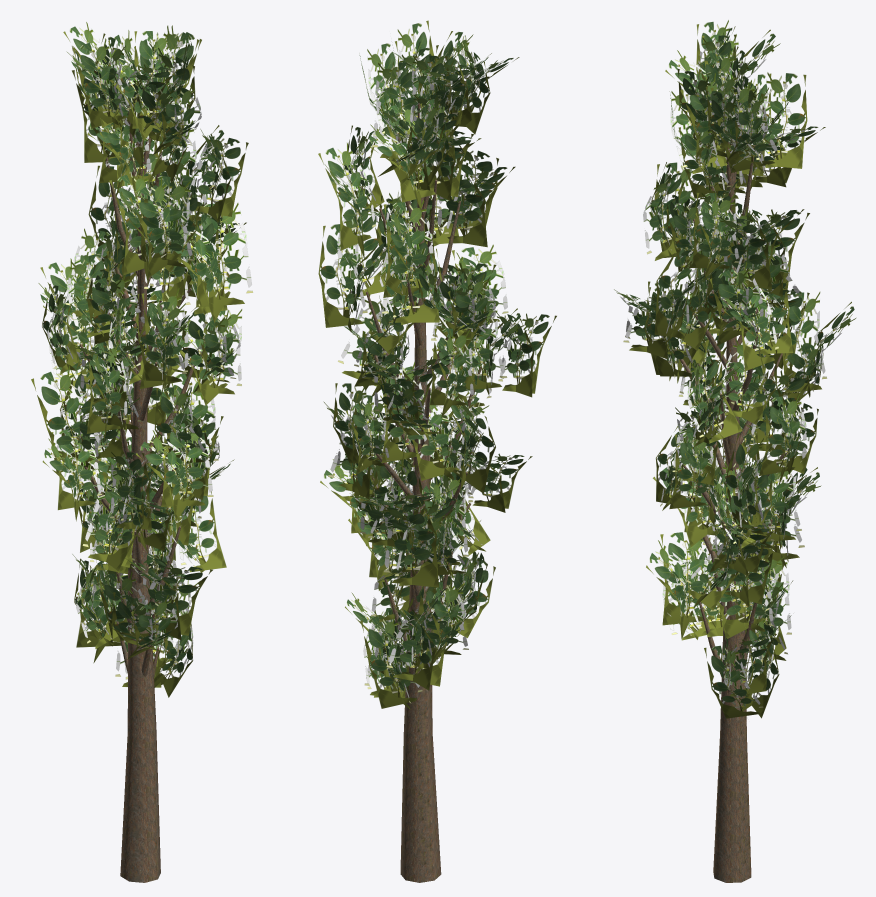
The model's file is tree_poplar.glb.
The picture shows the model from 3 angles, left to right: view 1: azimuth 30°, elevation 25°; view 2: azimuth 150°, elevation 25°; view 3: azimuth 270°, elevation 25°; orthographic projection. The views are drawn at different scales.
Visible parts, largest first — view 1: foliage, trunk; view 2: foliage, trunk; view 3: foliage, trunk.
Boxes of the visible parts, x1,y1,x2,y2 form: foliage: (31, 22, 252, 697); trunk: (79, 95, 198, 882); foliage: (318, 20, 556, 709); trunk: (366, 102, 481, 882); foliage: (614, 20, 855, 718); trunk: (672, 119, 789, 882).
Size of the model in its own units: 4.39 by 15.48 by 4.43.
Materials: 2 (2 with a texture image).
